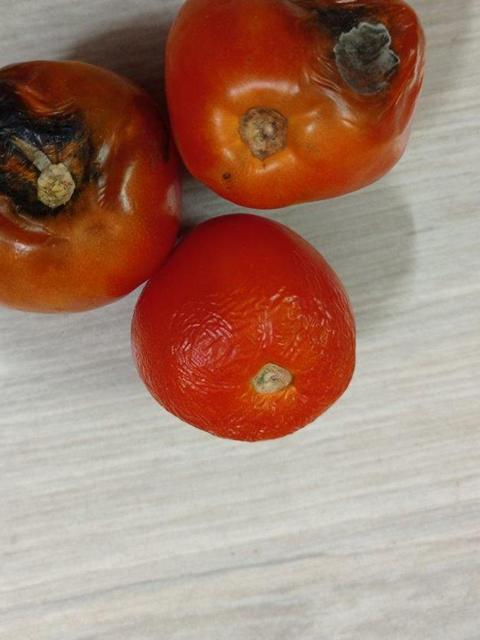defect: (165, 0, 436, 213), (0, 59, 182, 316)
